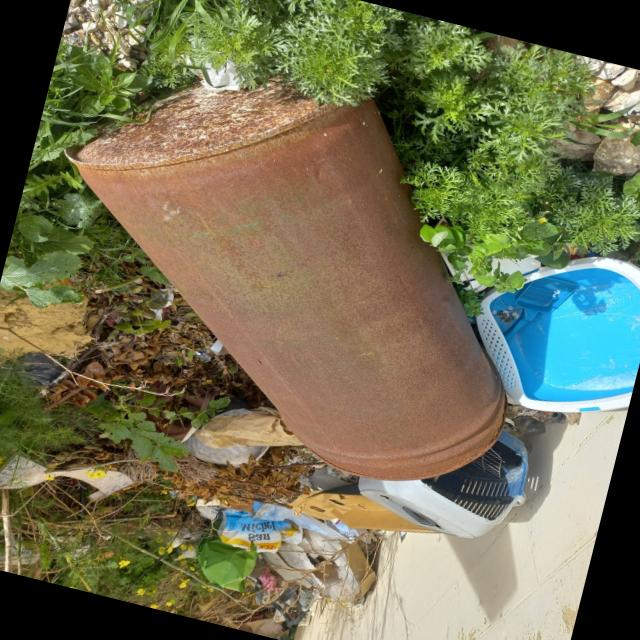Carton: (193, 349, 212, 364)
Other litter: (53, 69, 507, 479), (131, 378, 298, 468), (282, 441, 441, 533), (0, 461, 147, 502), (502, 394, 582, 439), (180, 35, 243, 89), (0, 538, 42, 566)
Other plastic: (160, 487, 405, 640), (468, 255, 640, 413), (356, 429, 528, 538), (441, 243, 629, 326), (115, 499, 199, 599), (0, 354, 77, 404), (150, 288, 173, 321)
Paper: (210, 338, 230, 356)
